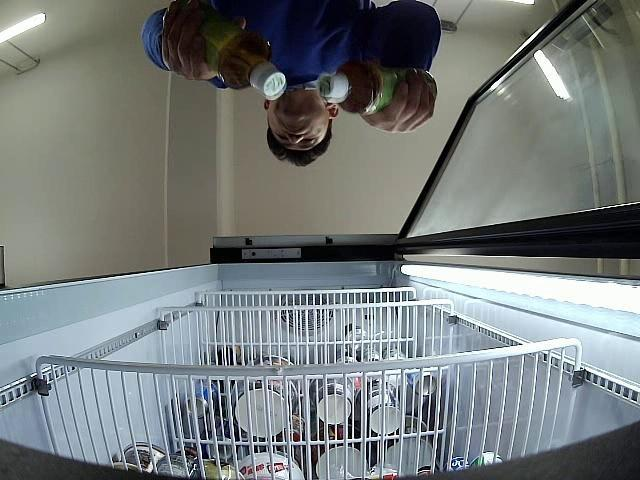19_17cha: (198, 1, 286, 98), (319, 60, 396, 116)
